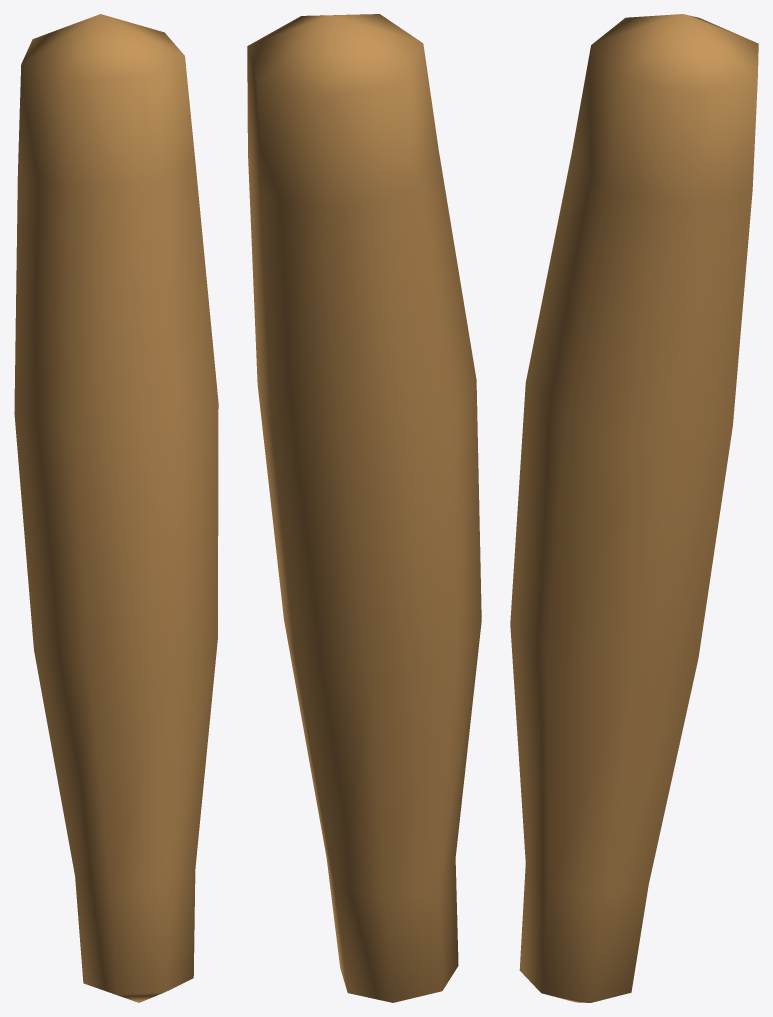
File: tarsus4_T3_left_leg.obj
The picture shows the model from 3 angles, left to right: view 1: azimuth 30°, elevation 25°; view 2: azimuth 150°, elevation 25°; view 3: azimuth 270°, elevation 25°; orthographic projection. The views are drawn at different scales.
Size of the model in its own units: 0.0025 by 0.0128 by 0.00289.
